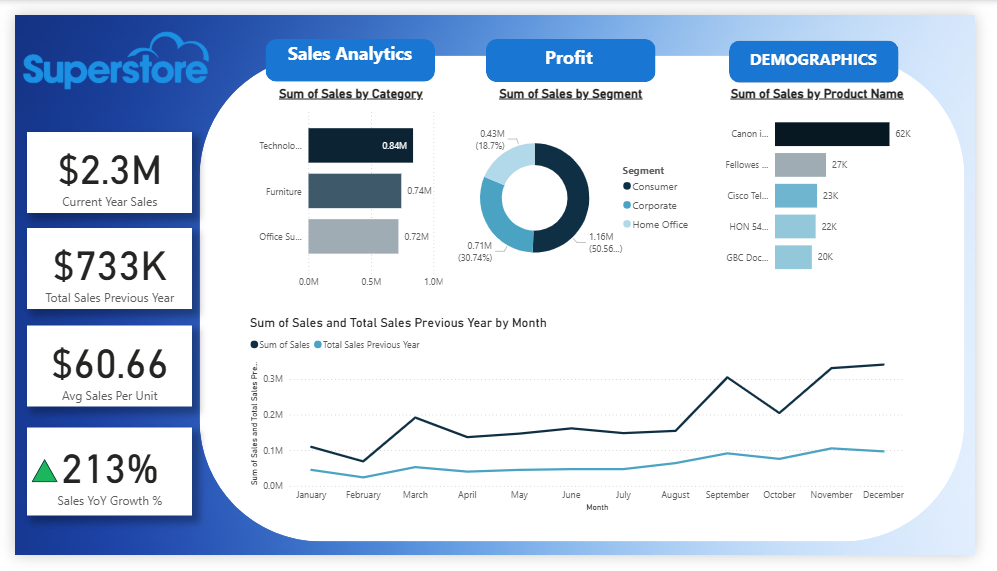

What the dashboard file says about the page in this screenshot:
{"tool":"powerbi","page":{"name":"Sales Analysis","canvas":[1280,720],"ordinal":0},"visuals":[{"type":"shape","box":[246.7,54.7,1020,648],"z":0},{"type":"card","fields":{"Values":["Calendar.Total Sales"]},"box":[15,155,220,108],"z":1000},{"type":"card","fields":{"Values":["Calendar.Total Sales Previous Year"]},"box":[15,283,220,108],"z":2000},{"type":"card","fields":{"Values":["Calendar.Avg Sales Per Unit"]},"box":[15,414,220,108],"z":3000},{"type":"card","fields":{"Values":["Calendar.Sales YoY Growth %"]},"box":[15,549,220,117],"z":4000},{"type":"barChart","fields":{"Category":["Sample - Superstore.Category"],"Y":["Sum(Sample - Superstore.Sales)"]},"box":[307.9,94.2,279.7,279.7],"z":5000},{"type":"donutChart","fields":{"Y":["Sum(Sample - Superstore.Sales)"],"Category":["Sample - Superstore.Segment"]},"box":[570.6,94.2,342,279.7],"z":6000},{"type":"clusteredBarChart","fields":{"Y":["Sum(Sample - Superstore.Sales)"],"Category":["Sample - Superstore.Product Name"]},"box":[930.7,93.7,279,267],"z":7000},{"type":"lineChart","fields":{"Category":["Sample - Superstore.Ship Date.Variation.Date Hierarchy.Month"],"Y":["Sum(Sample - Superstore.Sales)","Calendar.Total Sales Previous Year"]},"box":[307.9,400.3,886.3,266.5],"z":8000},{"type":"shape","title":"Sales","box":[334.7,31.7,226,57],"z":9000},{"type":"textbox","box":[352.5,28.8,188.8,50],"z":10000},{"type":"textbox","box":[644,30.3,189,49],"z":12000},{"type":"shape","title":"DEMO ac","box":[952.7,33,226,57],"z":13000},{"type":"textbox","box":[970.7,33,189,49],"z":14000},{"type":"shape","box":[22,592,35,31],"z":15000},{"type":"image","box":[0,16,270,88],"z":16000},{"type":"shape","title":"Prof IN","box":[627.5,32.5,226.2,57.5],"z":17000},{"type":"textbox","box":[643.8,33.8,188.8,50],"z":18000},{"type":"shape","box":[952.5,33.8,226.2,56.2],"z":19000},{"type":"textbox","box":[970,37.5,188.8,48.8],"z":20000}]}

Visuals, with their boxes in screenshot pixels (x1, y1, x2, y2), scaled from the page's 1280x720 canvas onto the 997x571 screenshot:
shape: [left=192, top=43, right=987, bottom=557]
card - Calendar.Total Sales: [left=12, top=123, right=183, bottom=209]
card - Calendar.Total Sales Previous Year: [left=12, top=224, right=183, bottom=310]
card - Calendar.Avg Sales Per Unit: [left=12, top=328, right=183, bottom=414]
card - Calendar.Sales YoY Growth %: [left=12, top=435, right=183, bottom=528]
barChart - Sample - Superstore.Category x Sum(Sample - Superstore.Sales): [left=240, top=75, right=458, bottom=297]
donutChart - Sum(Sample - Superstore.Sales) x Sample - Superstore.Segment: [left=444, top=75, right=711, bottom=297]
clusteredBarChart - Sum(Sample - Superstore.Sales) x Sample - Superstore.Product Name: [left=725, top=74, right=942, bottom=286]
lineChart - Sample - Superstore.Ship Date.Variation.Date Hierarchy.Month x Sum(Sample - Superstore.Sales): [left=240, top=317, right=930, bottom=529]
"Sales" shape: [left=261, top=25, right=437, bottom=70]
textbox: [left=275, top=23, right=422, bottom=62]
textbox: [left=502, top=24, right=649, bottom=63]
"DEMO ac" shape: [left=742, top=26, right=918, bottom=71]
textbox: [left=756, top=26, right=903, bottom=65]
shape: [left=17, top=469, right=44, bottom=494]
image: [left=0, top=13, right=210, bottom=82]
"Prof IN" shape: [left=489, top=26, right=665, bottom=71]
textbox: [left=501, top=27, right=649, bottom=66]
shape: [left=742, top=27, right=918, bottom=71]
textbox: [left=756, top=30, right=903, bottom=68]
